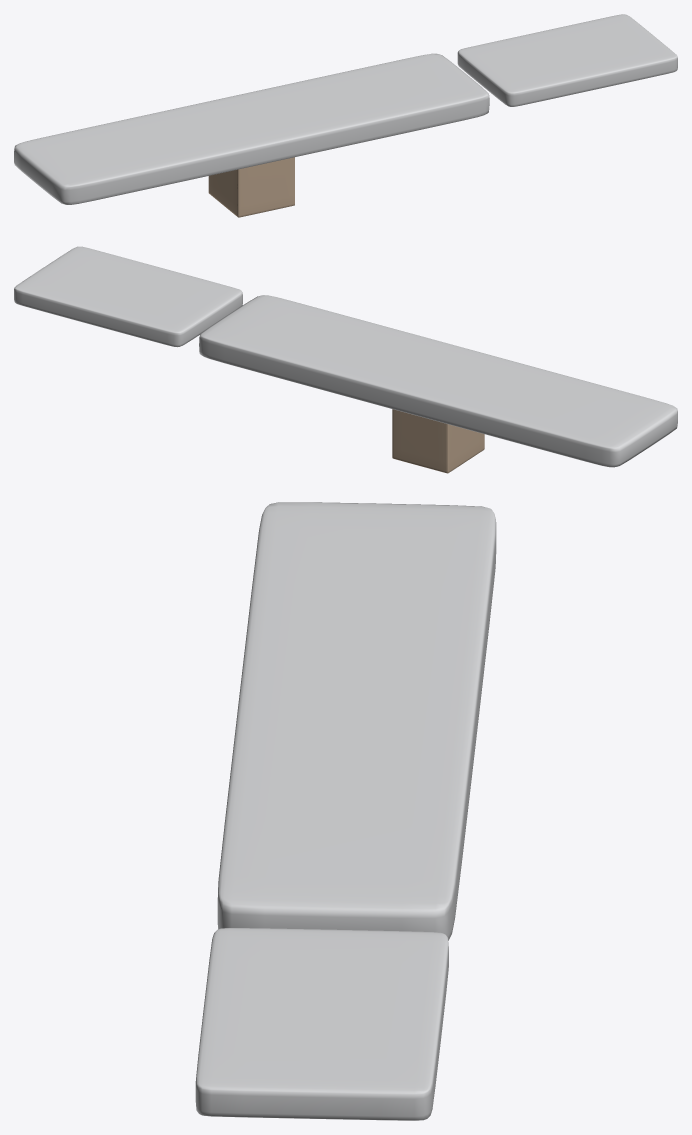
Rendered from PROP_SignPost_v2.glb.
3 views of the same model, one above another, from view 1: azimuth 30°, elevation 25°; view 2: azimuth 150°, elevation 25°; view 3: azimuth 270°, elevation 25° (orthographic). The views are drawn at different scales.
Visible parts, largest first — view 1: PROP_SignPost_v2; view 2: PROP_SignPost_v2; view 3: PROP_SignPost_v2.
Part boxes in pixels (box(x1,y1,x2,y2)): PROP_SignPost_v2: box(14, 14, 677, 217); PROP_SignPost_v2: box(14, 246, 677, 473); PROP_SignPost_v2: box(195, 502, 496, 1120).
Bounding box in the file's own units: 10.08 × 1.28 × 2.17.
